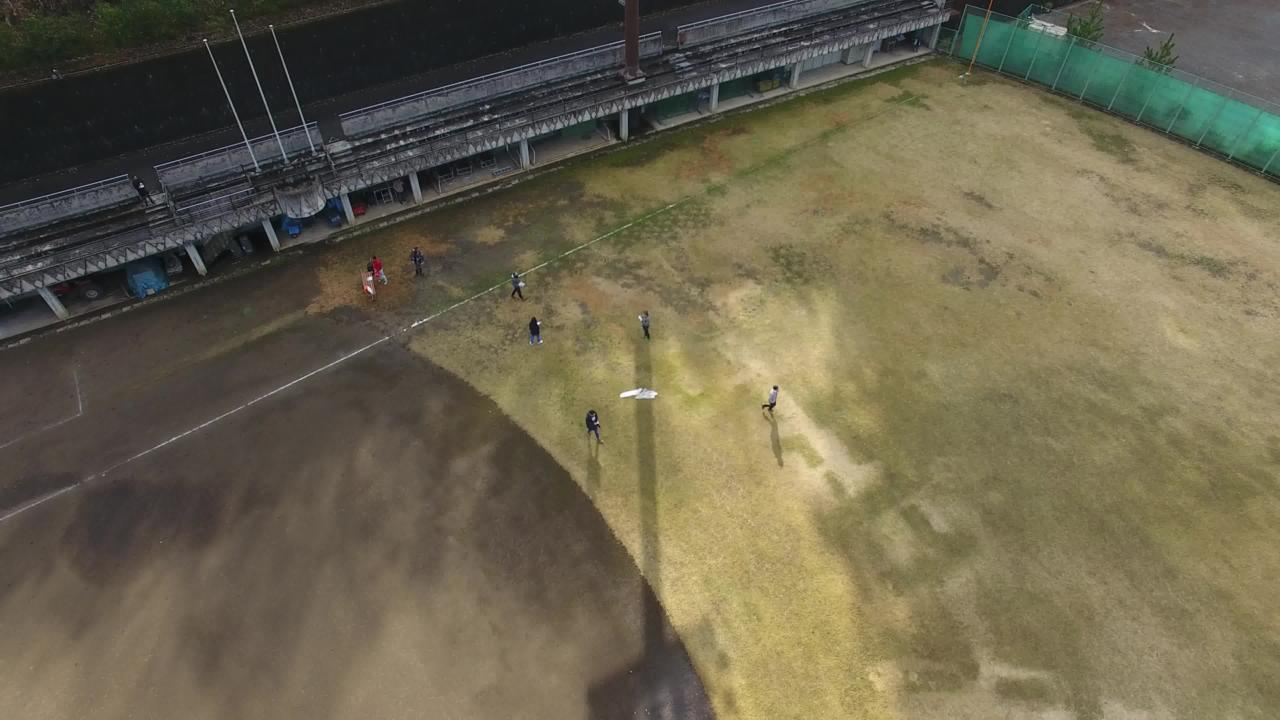person: (123, 163, 161, 218), (577, 402, 611, 458), (758, 370, 792, 426), (627, 303, 661, 359), (519, 308, 553, 364), (383, 164, 414, 214), (406, 240, 431, 285), (505, 258, 530, 303), (369, 254, 388, 286)
